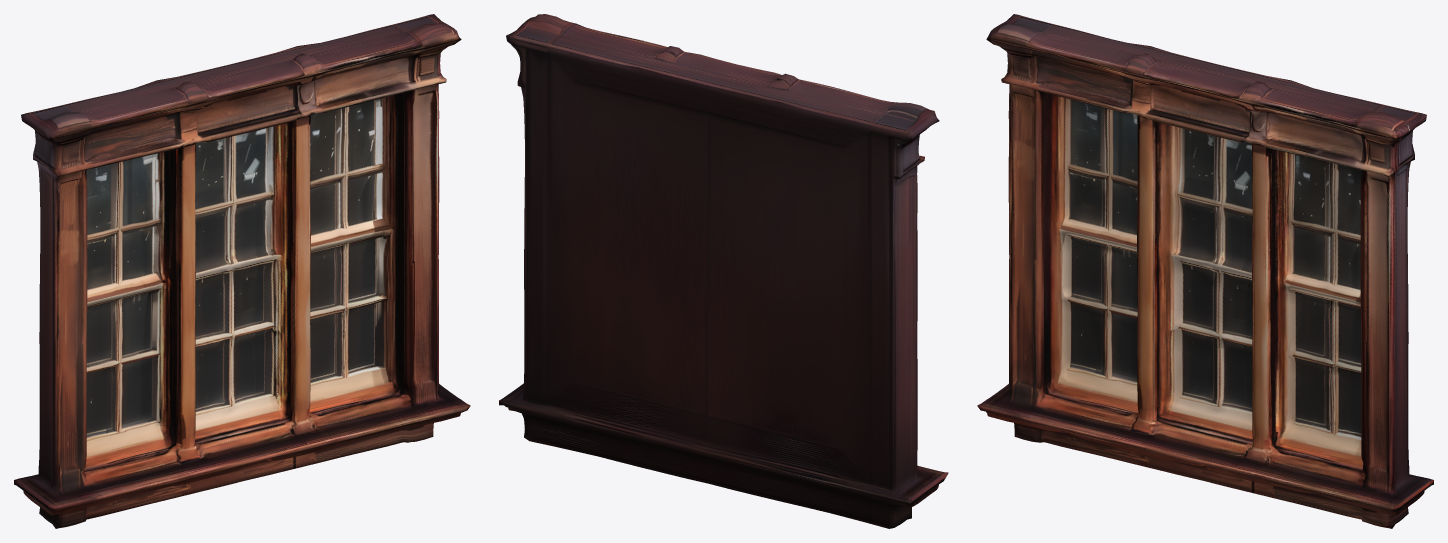
File: victorian_triple_window_frame_mri_-1.glb
3 views of the same model, side by side, from view 1: azimuth 30°, elevation 25°; view 2: azimuth 150°, elevation 25°; view 3: azimuth 330°, elevation 25° (orthographic).
Parts seen in each view (by area): view 1: model_0; view 2: model_0; view 3: model_0.
Part boxes in pixels (x1=…): model_0: x1=14, y1=14, x2=470, y2=528; model_0: x1=499, y1=14, x2=948, y2=528; model_0: x1=977, y1=14, x2=1433, y2=528.
Bounding box in the file's own units: 1.78 × 1.68 × 0.2867.
1 material, 1 textured.
